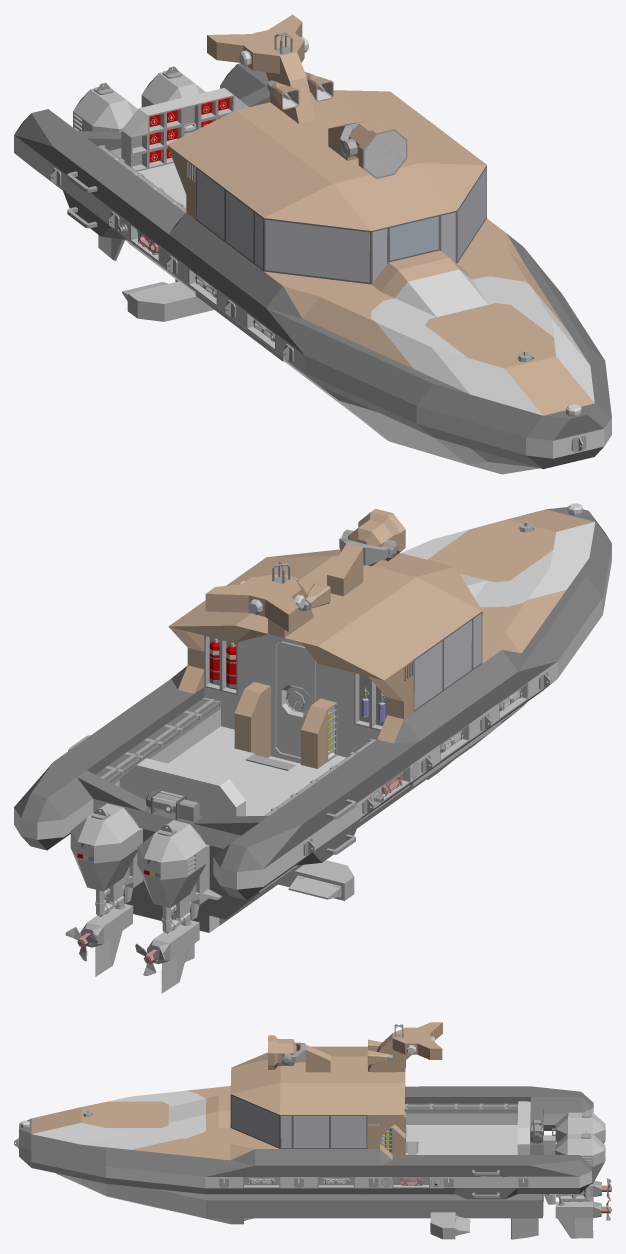
Rendered from m_boat_34dc670e.glb.
3 views of the same model, one above another, from view 1: azimuth 30°, elevation 25°; view 2: azimuth 150°, elevation 25°; view 3: azimuth 270°, elevation 25° (orthographic). The views are drawn at different scales.
Visible parts, largest first — view 1: mesh; view 2: mesh; view 3: mesh.
Boxes of the visible parts, x1=… form: mesh: x1=14, y1=14, x2=611, y2=474; mesh: x1=14, y1=503, x2=611, y2=993; mesh: x1=14, y1=1022, x2=611, y2=1239.
Bounding box in the file's own units: 5546 × 6448 × 16383.
